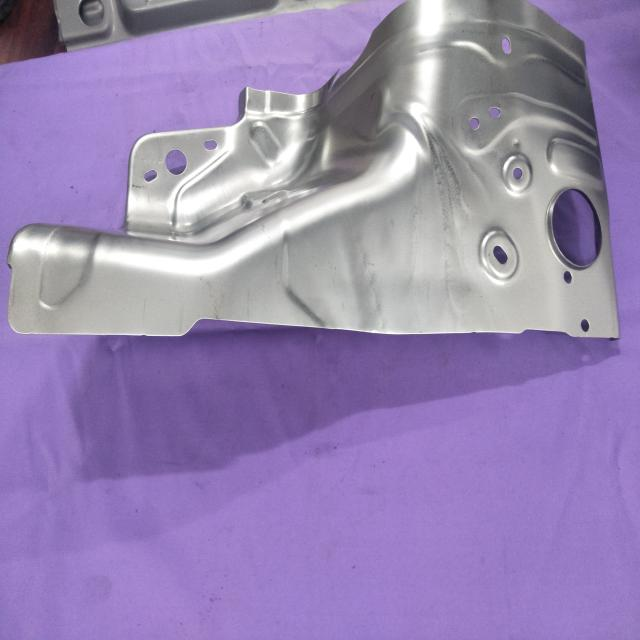Defect: (320, 28, 382, 99)
